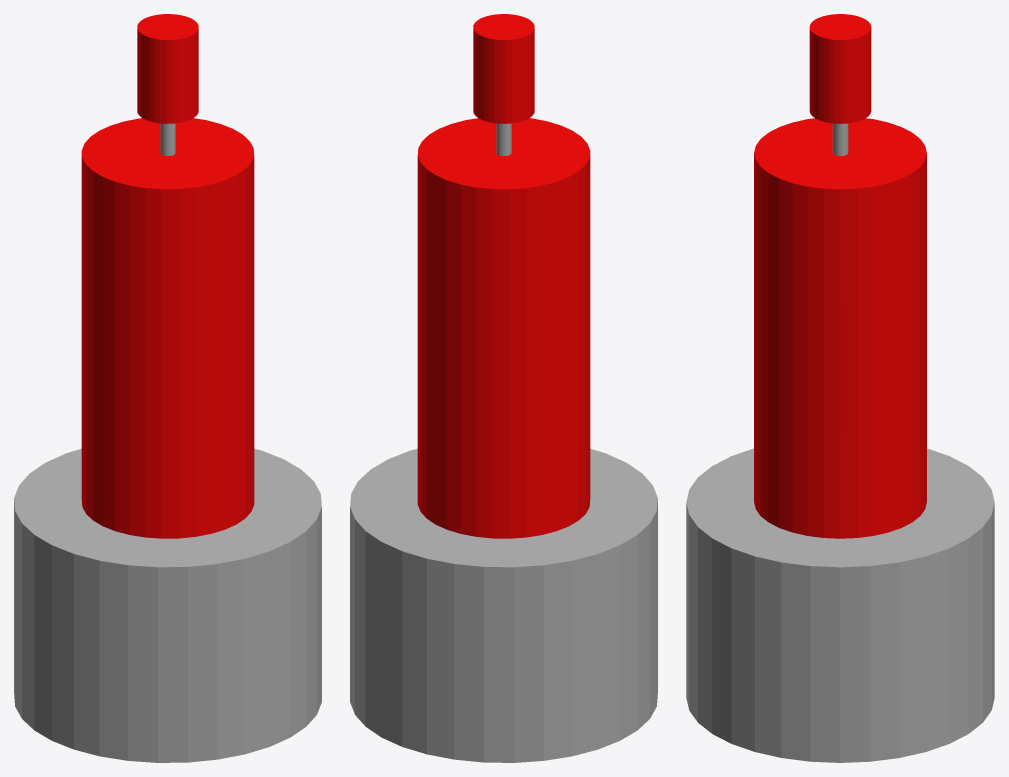
Rendered from Buoy-Portside.glb.
3 renders of one model, left to right at view 1: azimuth 30°, elevation 25°; view 2: azimuth 150°, elevation 25°; view 3: azimuth 270°, elevation 25°, orthographic.
Visible parts, largest first — view 1: Bouée, Cylindre babord; view 2: Bouée, Cylindre babord; view 3: Bouée, Cylindre babord, Axe.
Part boxes in pixels (box(x1,y1,x2,y2)): Bouée: box(14, 118, 321, 762); Cylindre babord: box(137, 14, 198, 123); Bouée: box(350, 118, 657, 762); Cylindre babord: box(473, 14, 534, 123); Bouée: box(686, 118, 994, 762); Cylindre babord: box(809, 14, 871, 123); Axe: box(832, 123, 848, 155).
Bounding box in the file's own units: 2 × 4.8 × 2.
